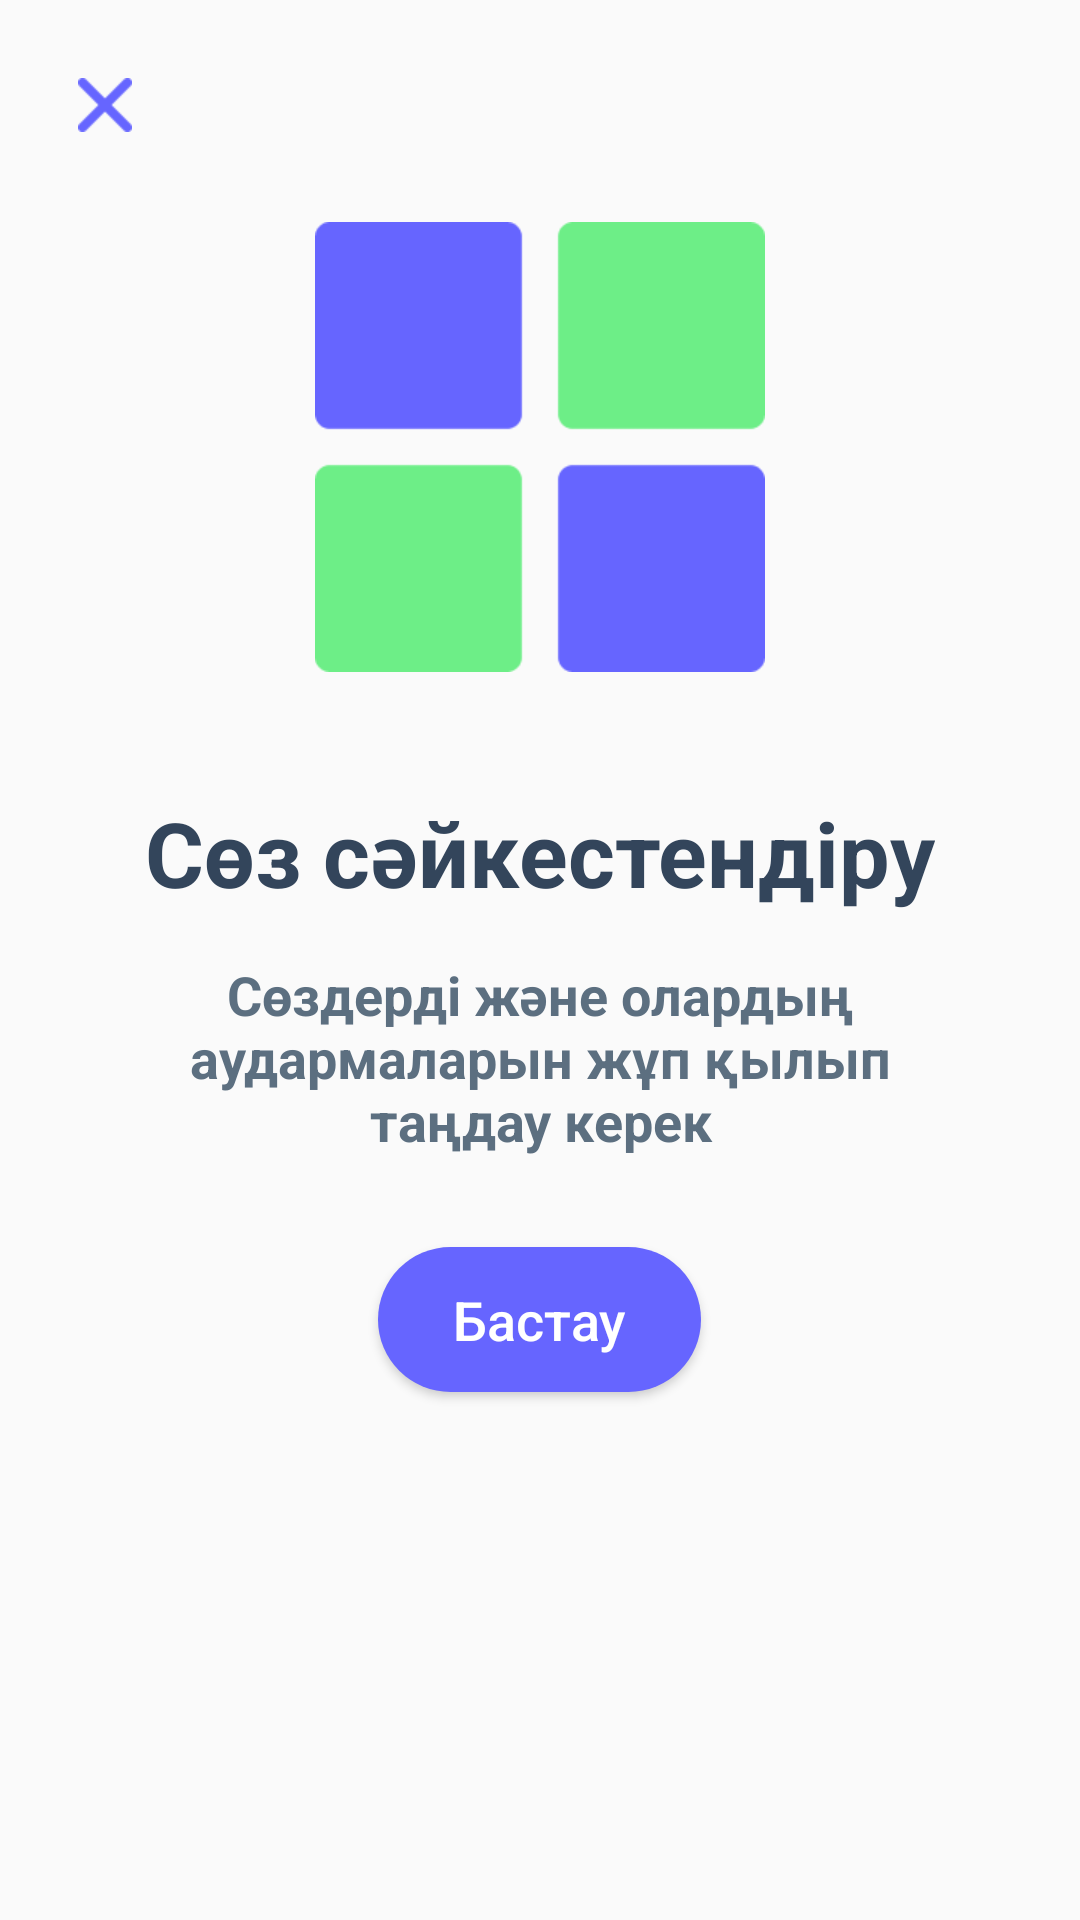

Locate icon controls on the screen. Image size 1080px×1920px, boxes as (x1, y1, x2, y2).
close: (78, 78, 132, 132)
